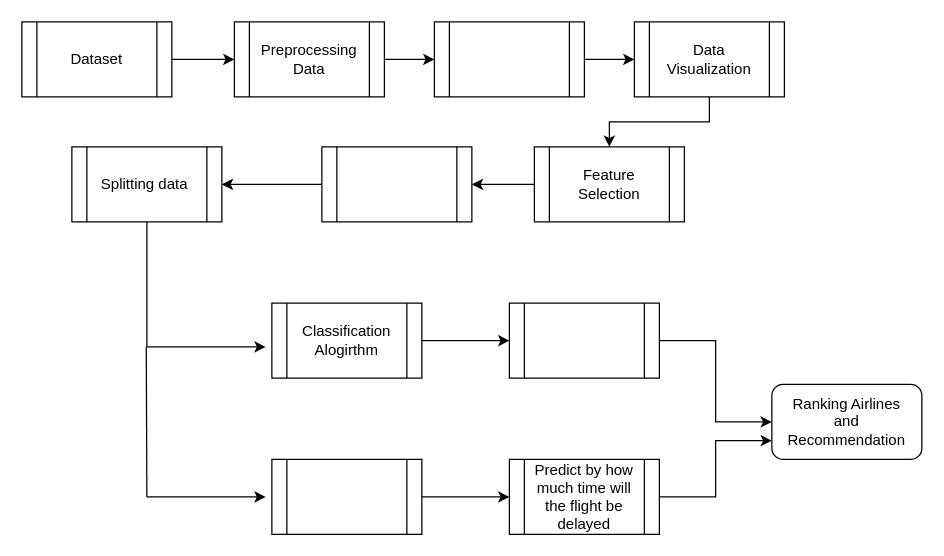
Some shapes in this 944 by 556 pixel diagram are drawn without their labels. Each missing label, with the centre of its shape:
"Convert Categorical to Numerical features" belongs at point (396, 184).
"Data Cleaning" belongs at point (508, 59).
"Predict whether the Flight will get delayed or not?" belongs at point (583, 340).
"Regression Algorithm" belongs at point (346, 496).
